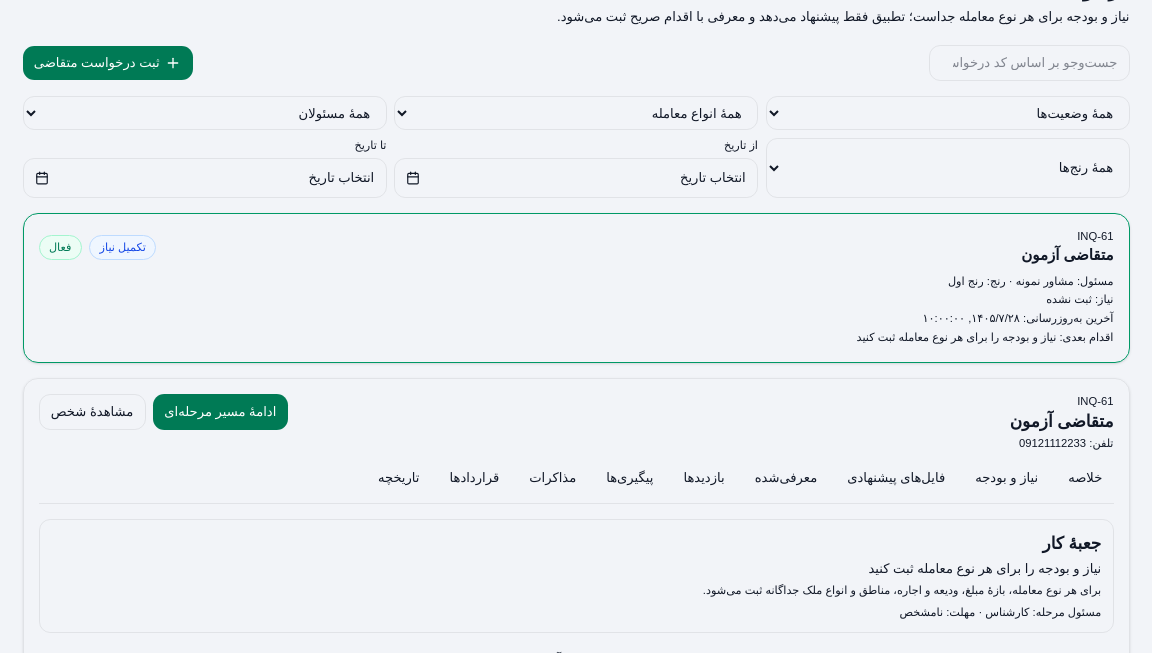
it: inquiry follow-up tab layout › gives the date and the clock their own row instead of overlapping the other fields
The image size is (1152, 653).
Click the tab "پیگیری‌ها".
click(630, 479)  # box [595,462,665,496]
(page scrolled)
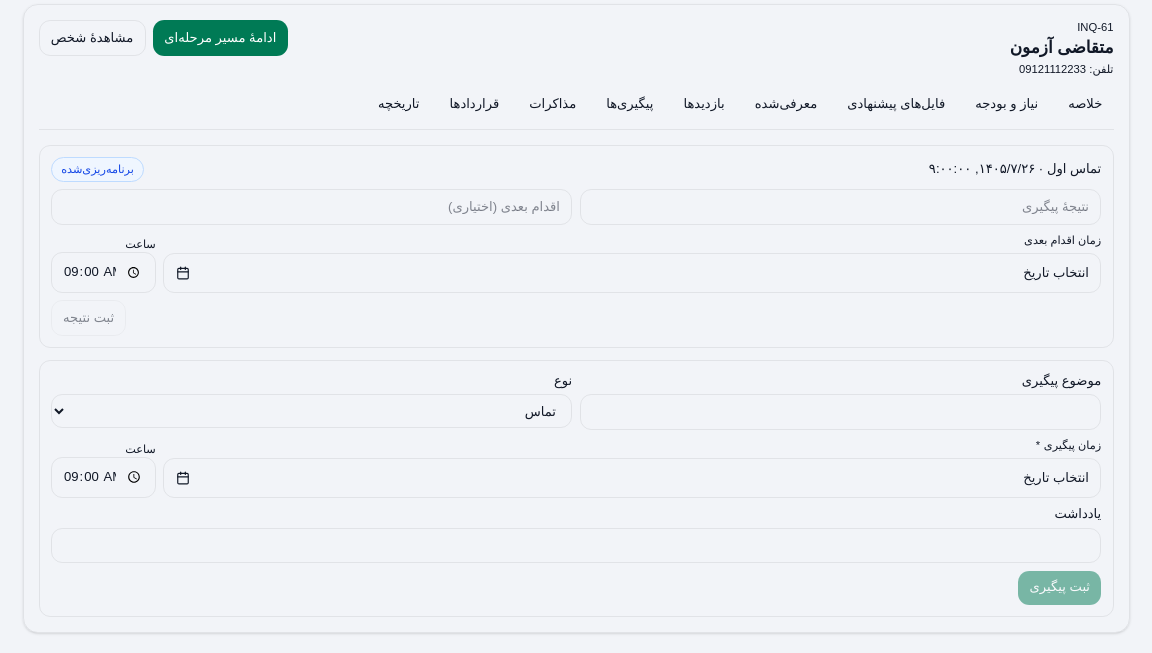
Check: the text "زمان پیگیری" is shown, box [1044,438,1101,450]
